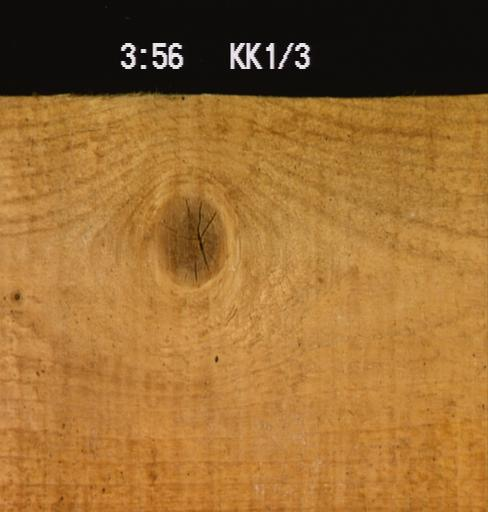small_knot: (10, 289, 21, 302)
sound_knot: (150, 191, 227, 288)
